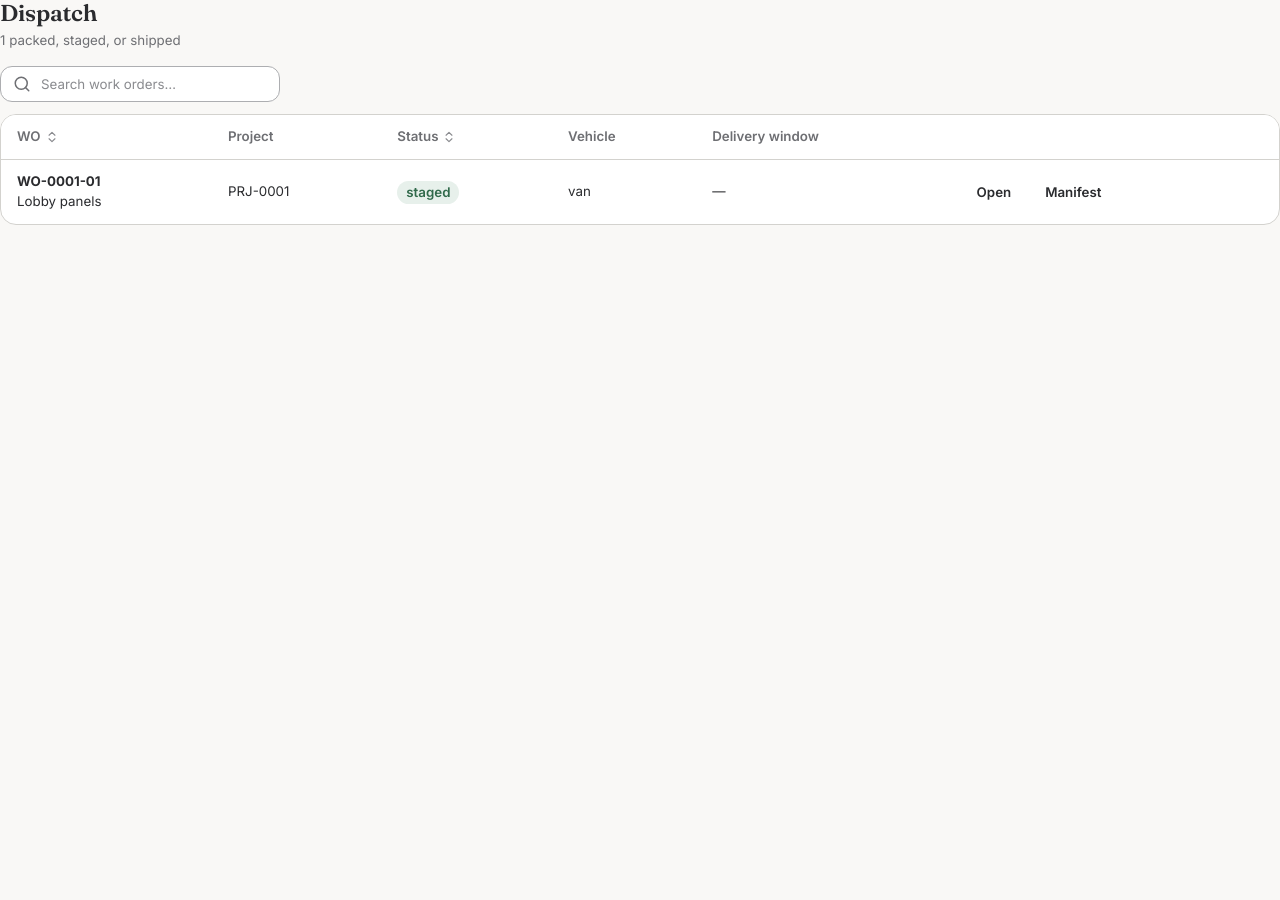
Test: DispatchSection › opens the generated manifest
expect the text "WO-0001-01" is shown: met, box left=17, top=174, right=101, bottom=190
Click the button "Manifest".
click(1073, 192)  # box left=1032, top=176, right=1114, bottom=208
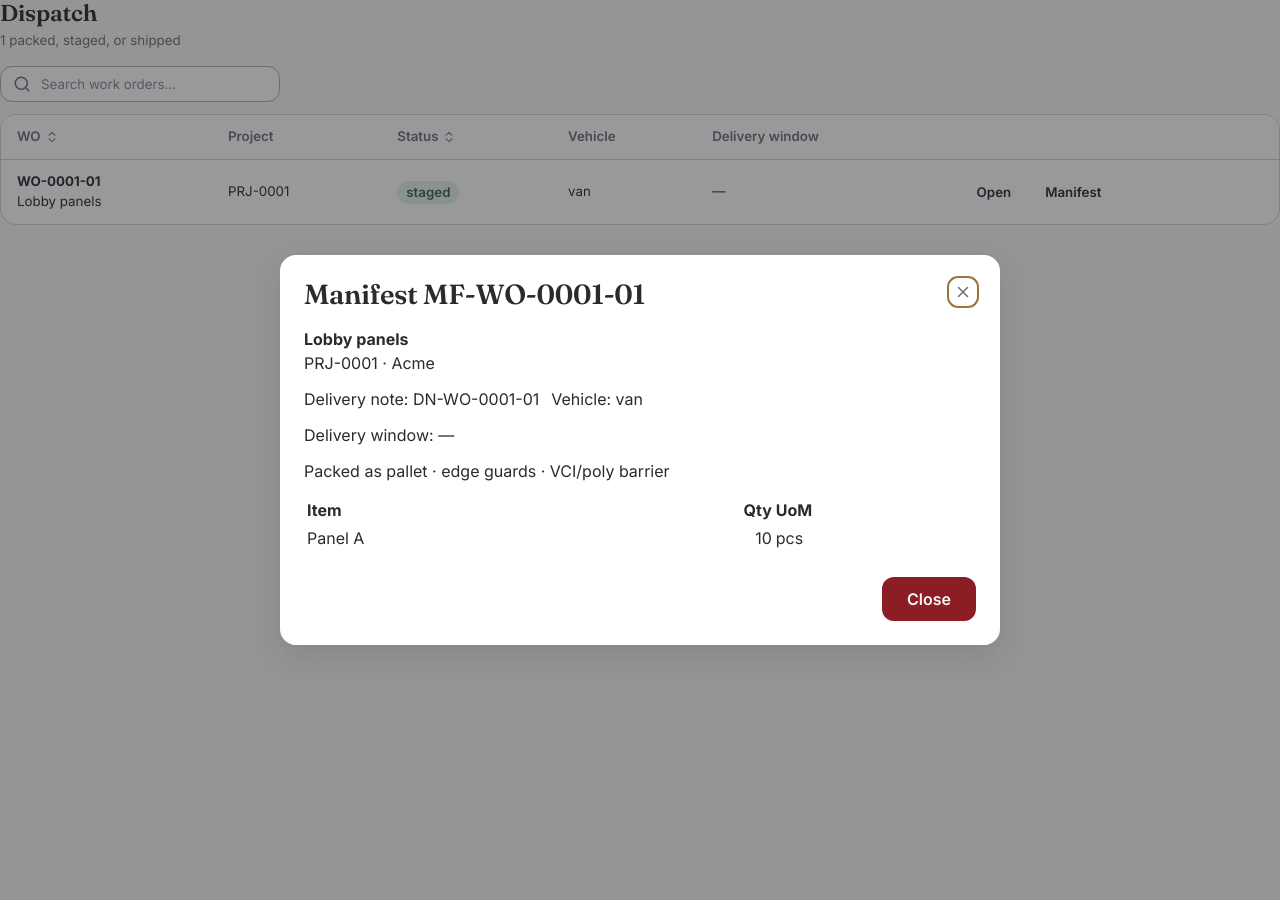
expect the heading "Manifest MF-WO-0001-01" is shown: met, box left=304, top=279, right=645, bottom=311
expect the text "Panel A" is shown: met, box left=306, top=525, right=614, bottom=551
expect the text "Delivery note: DN-WO-0001-01" is shown: met, box left=304, top=387, right=539, bottom=411
